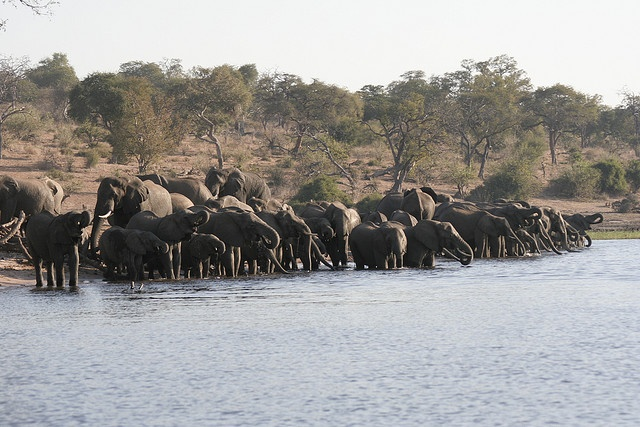elephant: (130, 215, 212, 294), (166, 244, 255, 314), (61, 247, 128, 336), (236, 244, 322, 313), (484, 236, 568, 288), (132, 256, 207, 313), (435, 244, 517, 296), (330, 235, 390, 304), (28, 210, 83, 281), (238, 189, 308, 238), (377, 246, 434, 297), (204, 256, 250, 302), (582, 230, 628, 266), (417, 203, 457, 238)
